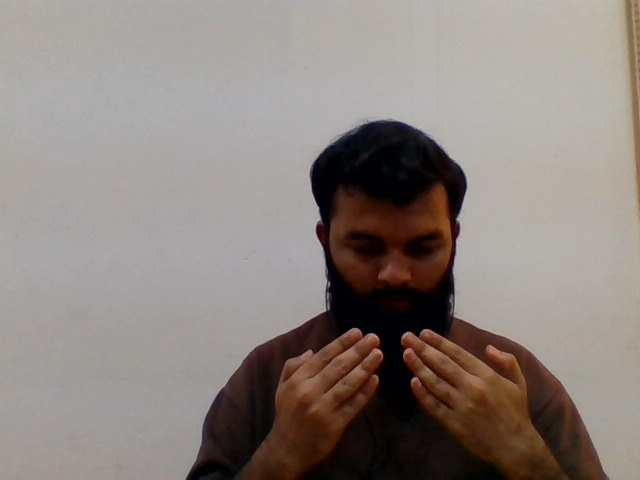Thank You: (247, 205, 586, 478)
